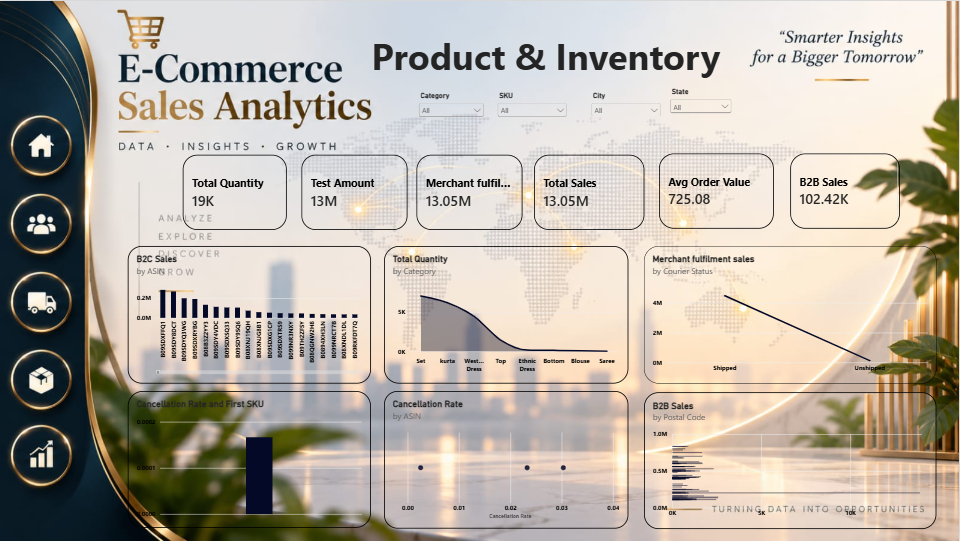

This screenshot's page, from the dashboard's own definition file:
{"tool":"powerbi","page":{"name":"Product & Inventory","canvas":[1920,1080],"ordinal":3},"visuals":[{"type":"actionButton","box":[18.1,228,135.7,128.5],"z":0},{"type":"actionButton","box":[18.1,378.2,135.7,128.5],"z":1000},{"type":"actionButton","box":[18.1,539.3,135.7,128.5],"z":2000},{"type":"actionButton","box":[18.1,691.3,135.7,128.5],"z":3000},{"type":"actionButton","box":[19.9,846.9,135.7,128.5],"z":4000},{"type":"textbox","box":[743.8,59.7,718.4,105],"z":5000},{"type":"slicer","fields":{"Values":["Dim_Product.Category"]},"box":[836.1,179.2,139.3,70.6],"z":6000},{"type":"slicer","fields":{"Values":["Dim_Product.SKU"]},"box":[993.5,179.2,148.4,70.6],"z":7000},{"type":"slicer","fields":{"Values":["Dim_Location.City"]},"box":[1180,180,148.4,48.9],"z":8000},{"type":"clusteredColumnChart","fields":{"Category":["Dim_Product.ASIN"],"Y":["Measure.B2C Sales"]},"box":[257,490.4,486.8,275.1],"z":9000},{"type":"stackedAreaChart","fields":{"Y":["Measure.Total Quantity"],"Category":["Dim_Product.Category"]},"box":[770.9,490.4,488.6,275.1],"z":10000},{"type":"lineChart","fields":{"Y":["Measure.Merchant fulfilment sales"],"Category":["Dim_Shipping.Courier Status"]},"box":[1290.3,490.4,584.5,275.1],"z":11000},{"type":"columnChart","fields":{"Y":["Measure.Cancellation Rate"]},"box":[257,780,486.8,273.3],"z":12000},{"type":"scatterChart","fields":{"Category":["Dim_Product.ASIN"],"X":["Measure.Cancellation Rate"]},"box":[770.9,780,488.6,275.1],"z":13000},{"type":"clusteredBarChart","fields":{"Category":["Dim_Location.Postal Code"],"Y":["Measure.B2B Sales"]},"box":[1290.3,781.8,584.5,273.3],"z":14000},{"type":"cardVisual","fields":{"Data":["Measure.Total Quantity"]},"box":[367.4,307.6,208.1,150.2],"z":15000},{"type":"cardVisual","fields":{"Data":["Measure.Test Amount"]},"box":[606.2,307.6,211.7,150.2],"z":16000},{"type":"cardVisual","fields":{"Data":["Measure.Merchant fulfilment sales"]},"box":[836.1,307.6,211.7,150.2],"z":17000},{"type":"cardVisual","fields":{"Data":["Measure.Total Sales"]},"box":[1069.5,307.6,220.8,150.2],"z":18000},{"type":"cardVisual","fields":{"Data":["Measure.Avg Order Value"]},"box":[1319.2,304,229.8,150.2],"z":19000},{"type":"cardVisual","fields":{"Data":["Measure.B2B Sales"]},"box":[1583.5,304,219,150.2],"z":20000},{"type":"slicer","fields":{"Values":["Dim_Location.State"]},"box":[1337.3,173.7,132.1,54.3],"z":20001}]}

Visuals, with their boxes in screenshot pixels (x1, y1, x2, y2), scaled from the page's 1920x1080 canvas onto the 960x541 screenshot:
actionButton: l=9, t=114, r=77, b=179
actionButton: l=9, t=189, r=77, b=254
actionButton: l=9, t=270, r=77, b=335
actionButton: l=9, t=346, r=77, b=411
actionButton: l=10, t=424, r=78, b=489
textbox: l=372, t=30, r=731, b=83
slicer - Dim_Product.Category: l=418, t=90, r=488, b=125
slicer - Dim_Product.SKU: l=497, t=90, r=571, b=125
slicer - Dim_Location.City: l=590, t=90, r=664, b=115
clusteredColumnChart - Dim_Product.ASIN x Measure.B2C Sales: l=128, t=246, r=372, b=383
stackedAreaChart - Measure.Total Quantity x Dim_Product.Category: l=385, t=246, r=630, b=383
lineChart - Measure.Merchant fulfilment sales x Dim_Shipping.Courier Status: l=645, t=246, r=937, b=383
columnChart - Measure.Cancellation Rate: l=128, t=391, r=372, b=528
scatterChart - Dim_Product.ASIN x Measure.Cancellation Rate: l=385, t=391, r=630, b=529
clusteredBarChart - Dim_Location.Postal Code x Measure.B2B Sales: l=645, t=392, r=937, b=529
cardVisual - Measure.Total Quantity: l=184, t=154, r=288, b=229
cardVisual - Measure.Test Amount: l=303, t=154, r=409, b=229
cardVisual - Measure.Merchant fulfilment sales: l=418, t=154, r=524, b=229
cardVisual - Measure.Total Sales: l=535, t=154, r=645, b=229
cardVisual - Measure.Avg Order Value: l=660, t=152, r=774, b=228
cardVisual - Measure.B2B Sales: l=792, t=152, r=901, b=228
slicer - Dim_Location.State: l=669, t=87, r=735, b=114
